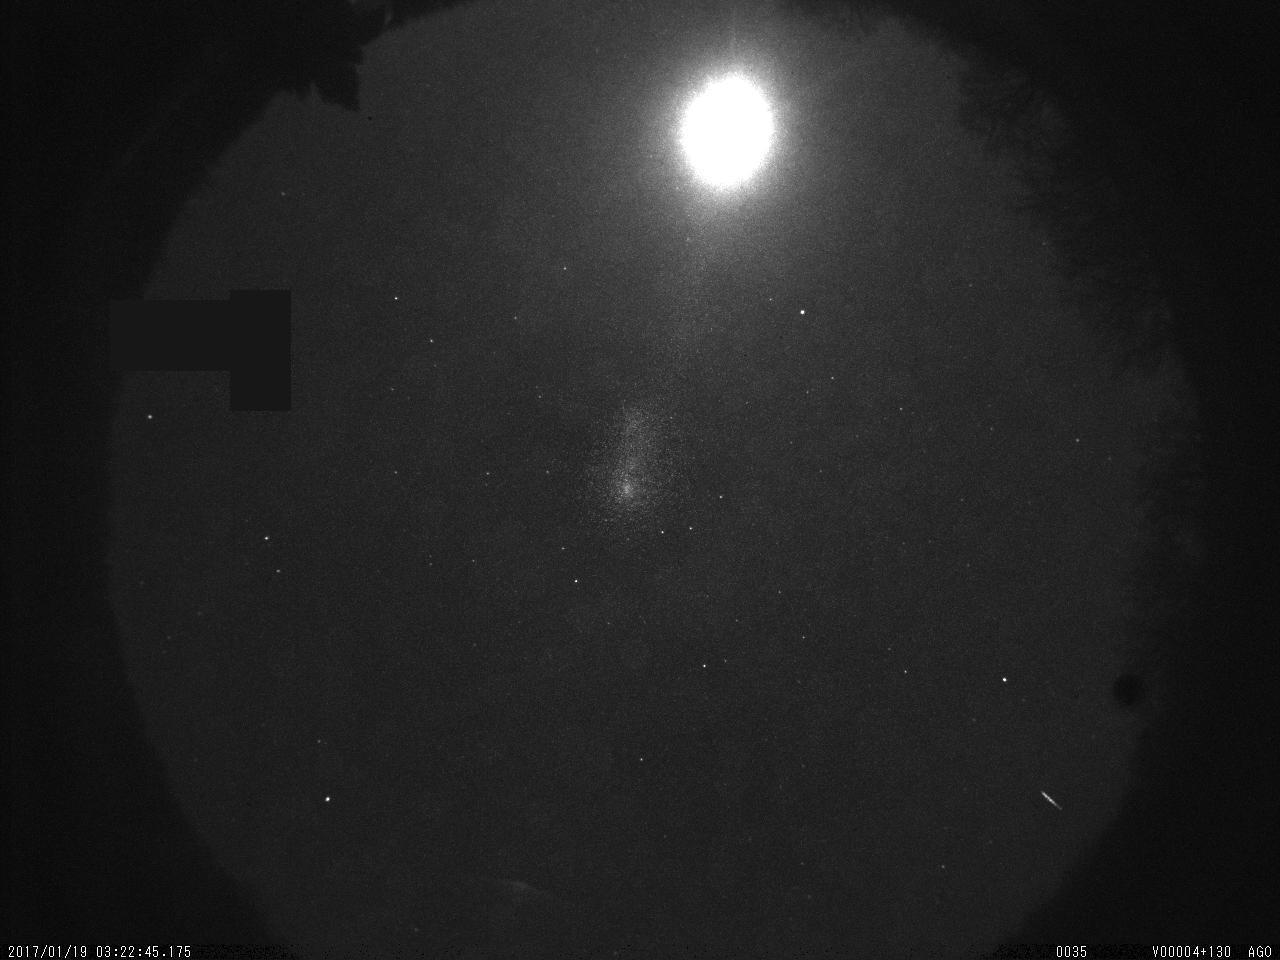meteor: (1039, 782, 1073, 826)
